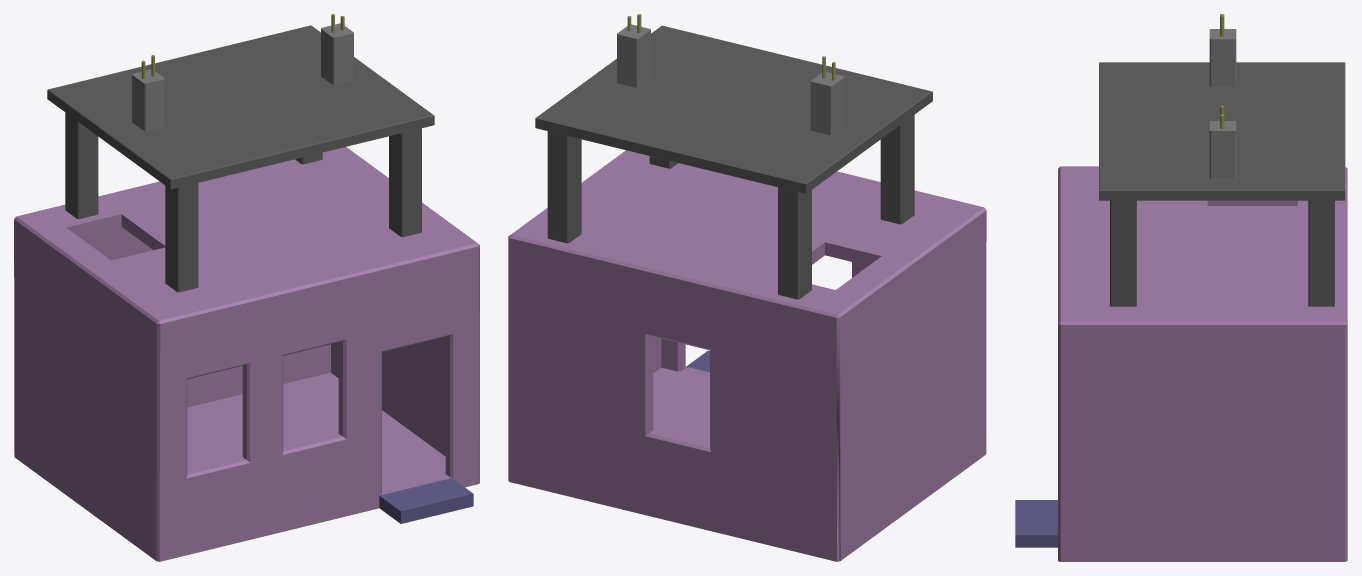
Rendered from Edificio_Const_02.fbx.
3 renders of one model, left to right at view 1: azimuth 30°, elevation 25°; view 2: azimuth 150°, elevation 25°; view 3: azimuth 270°, elevation 25°, orthographic. The views are drawn at different scales.
Visible parts, largest first — view 1: polySurface31; view 2: polySurface31; view 3: polySurface31.
Part boxes in pixels (left/top/right/bottom): polySurface31: left=14, top=14, right=479, bottom=561; polySurface31: left=508, top=14, right=986, bottom=561; polySurface31: left=1015, top=14, right=1347, bottom=561.
Size of the model in its own units: 978 by 1237 by 874.
